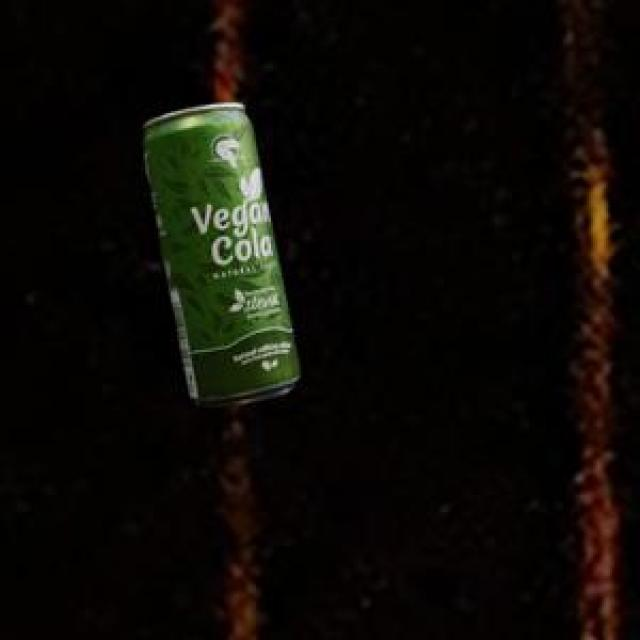logam: (140, 99, 298, 404)
